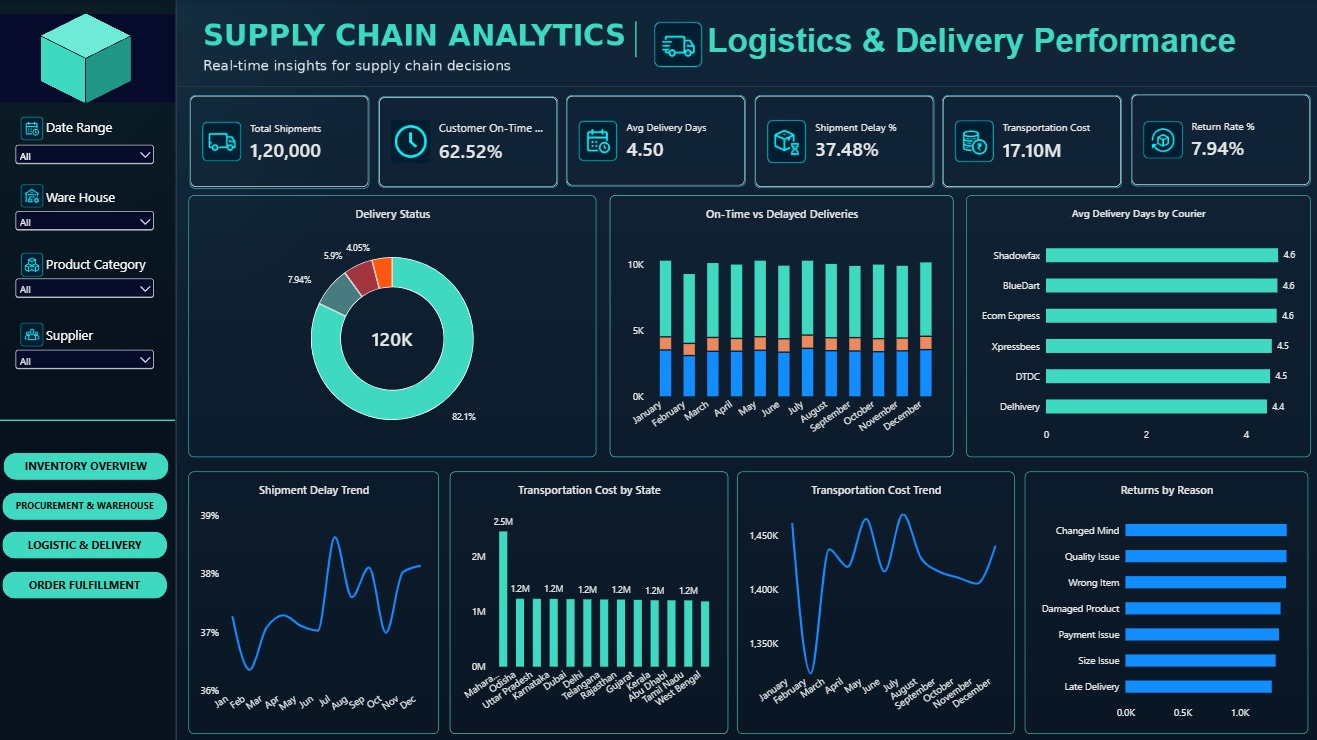

What the dashboard file says about the page in this screenshot:
{"tool":"powerbi","page":{"name":"Logistics & Delivery Performance","canvas":[1920,1080],"ordinal":2},"visuals":[{"type":"image","box":[0,22.6,259.4,127.7],"z":0},{"type":"cardVisual","fields":{"Data":["Measure_Table.Total Shipments"]},"box":[280.3,138.9,260,134.9],"z":1000},{"type":"cardVisual","fields":{"Data":["Measure_Table.OTD % (On-Time Delivery, vs SLA)"]},"box":[552.9,140.6,260.1,132.3],"z":2000},{"type":"cardVisual","fields":{"Data":["Measure_Table.Avg Delivery Days"]},"box":[825.5,139.7,260.1,132.3],"z":3000},{"type":"cardVisual","fields":{"Data":["Measure_Table.Shipment Delay %"]},"box":[1098.2,138.8,260,134.3],"z":4000},{"type":"cardVisual","fields":{"Data":["Measure_Table.Total Shipping Cost"]},"box":[1370.8,139.8,260,134.3],"z":5000},{"type":"donutChart","title":"Delivery Status","fields":{"Category":["Delivery_master.Delivery_Status"],"Y":["CountNonNull(Delivery_master.Delivery_ID)"]},"box":[278.8,284.5,590.4,378.9],"z":6000},{"type":"columnChart","title":"On-Time vs Delayed Deliveries","fields":{"Category":["Delivery_master.Order_Date.Variation.Date Hierarchy.Month"],"Series":["Delivery_master.OTD_Flag"],"Y":["CountNonNull(Delivery_master.Order_ID)"]},"box":[889.2,284.5,497.5,378.9],"z":7000},{"type":"clusteredBarChart","title":"Avg Delivery Days by Courier","fields":{"Category":["Delivery_master.Courier_Partner"],"Y":["Avg(Delivery_master.Delivery_Days)"]},"box":[1403.9,284.5,498.9,378.9],"z":8000},{"type":"lineChart","title":"Transportation Cost Trend","fields":{"Y":["Sum(Delivery_master.Shipping_Cost)"],"Category":["Delivery_master.Order_Date.Variation.Date Hierarchy.Month"]},"box":[1073.5,684.1,401.4,380.4],"z":9000},{"type":"clusteredColumnChart","title":"Transportation Cost by State","fields":{"Category":["Delivery_master.Delivery_State"],"Y":["Sum(Delivery_master.Shipping_Cost)"]},"box":[657,684.1,402.9,380.4],"z":10000},{"type":"lineChart","title":"\tShipment Delay Trend","fields":{"Category":["dim_date.Month_Name"],"Y":["Measure_Table.Shipment Delay %"]},"box":[278.2,684.1,362.3,380.4],"z":11000},{"type":"textbox","box":[1029.3,31.9,810.6,58.6],"z":12000},{"type":"shape","box":[902,32.2,50.3,51.7],"z":13000},{"type":"slicer","title":"Date Range","fields":{"Values":["dim_date.Date_Value"]},"box":[24.3,205.9,210.1,38.6],"z":14000},{"type":"slicer","fields":{"Values":["Warehouse_master.Warehouse_City"]},"box":[24.3,303.1,210.1,38.6],"z":15000},{"type":"slicer","fields":{"Values":["Product_master.Product_Category"]},"box":[24.3,400.3,210.1,38.6],"z":16000},{"type":"slicer","fields":{"Values":["Supplier_master.Supplier_Name"]},"box":[24.3,503.2,210.1,38.6],"z":17000},{"type":"textbox","box":[72.6,172.3,171.6,31.9],"z":18000},{"type":"textbox","box":[72.6,273.6,187.5,30.6],"z":19000},{"type":"textbox","box":[72.6,370.4,178.7,30],"z":20000},{"type":"textbox","box":[72.6,474.7,194.2,27.9],"z":21000},{"type":"cardVisual","fields":{"Data":["Measure_Table.Return Rate %"]},"box":[1643.4,138.3,260,133.8],"z":22000},{"type":"clusteredBarChart","title":"Returns by Reason","fields":{"Category":["Delivery_master.Return_Reason"],"Y":["Measure_Table.Return Count"]},"box":[1490,684.1,410.5,380.4],"z":23000},{"type":"image","box":[951.7,31.9,72,66.5],"z":24000},{"type":"shape","box":[0,582,259.4,54.5],"z":25000},{"type":"actionButton","box":[10.6,657.6,238.9,39.3],"z":26000},{"type":"actionButton","box":[9.1,715.1,238.9,39.3],"z":27000},{"type":"actionButton","box":[9.1,771,238.9,39.3],"z":28000},{"type":"actionButton","box":[9.1,828.5,238.9,39.3],"z":29000},{"type":"image","box":[33.3,169.3,39.3,34.8],"z":30000},{"type":"image","box":[33.3,267.6,39,34],"z":31000},{"type":"image","box":[33.3,367.4,39,34],"z":31001},{"type":"image","box":[33.3,468.7,39,34],"z":31002}]}

Visuals, with their boxes in screenshot pixels (x1, y1, x2, y2), scaled from the page's 1920x1080 canvas onto the 1317x740 screenshot:
image: (0,15,178,103)
cardVisual - Measure_Table.Total Shipments: (192,95,371,188)
cardVisual - Measure_Table.OTD % (On-Time Delivery, vs SLA): (379,96,558,187)
cardVisual - Measure_Table.Avg Delivery Days: (566,96,745,186)
cardVisual - Measure_Table.Shipment Delay %: (753,95,932,187)
cardVisual - Measure_Table.Total Shipping Cost: (940,96,1119,188)
"Delivery Status" donutChart: (191,195,596,455)
"On-Time vs Delayed Deliveries" columnChart: (610,195,951,455)
"Avg Delivery Days by Courier" clusteredBarChart: (963,195,1305,455)
"Transportation Cost Trend" lineChart: (736,469,1012,729)
"Transportation Cost by State" clusteredColumnChart: (451,469,727,729)
"	Shipment Delay Trend" lineChart: (191,469,439,729)
textbox: (706,22,1262,62)
shape: (619,22,653,57)
"Date Range" slicer: (17,141,161,168)
slicer - Warehouse_master.Warehouse_City: (17,208,161,234)
slicer - Product_master.Product_Category: (17,274,161,301)
slicer - Supplier_master.Supplier_Name: (17,345,161,371)
textbox: (50,118,168,140)
textbox: (50,187,178,208)
textbox: (50,254,172,274)
textbox: (50,325,183,344)
cardVisual - Measure_Table.Return Rate %: (1127,95,1306,186)
"Returns by Reason" clusteredBarChart: (1022,469,1304,729)
image: (653,22,702,67)
shape: (0,399,178,436)
actionButton: (7,451,171,478)
actionButton: (6,490,170,517)
actionButton: (6,528,170,555)
actionButton: (6,568,170,595)
image: (23,116,50,140)
image: (23,183,50,207)
image: (23,252,50,275)
image: (23,321,50,344)
